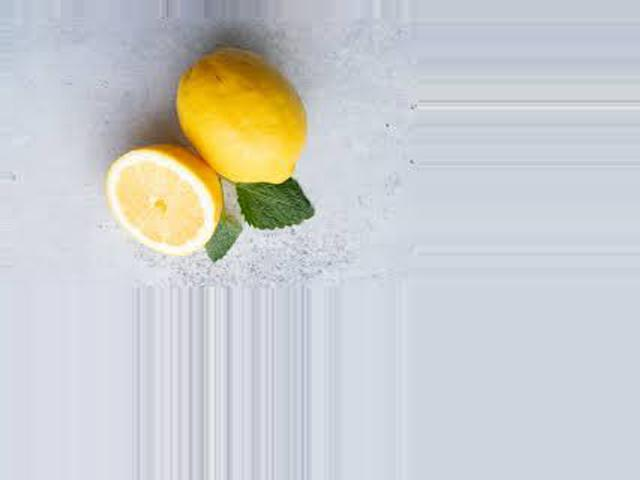lemon: (176, 47, 318, 193)
